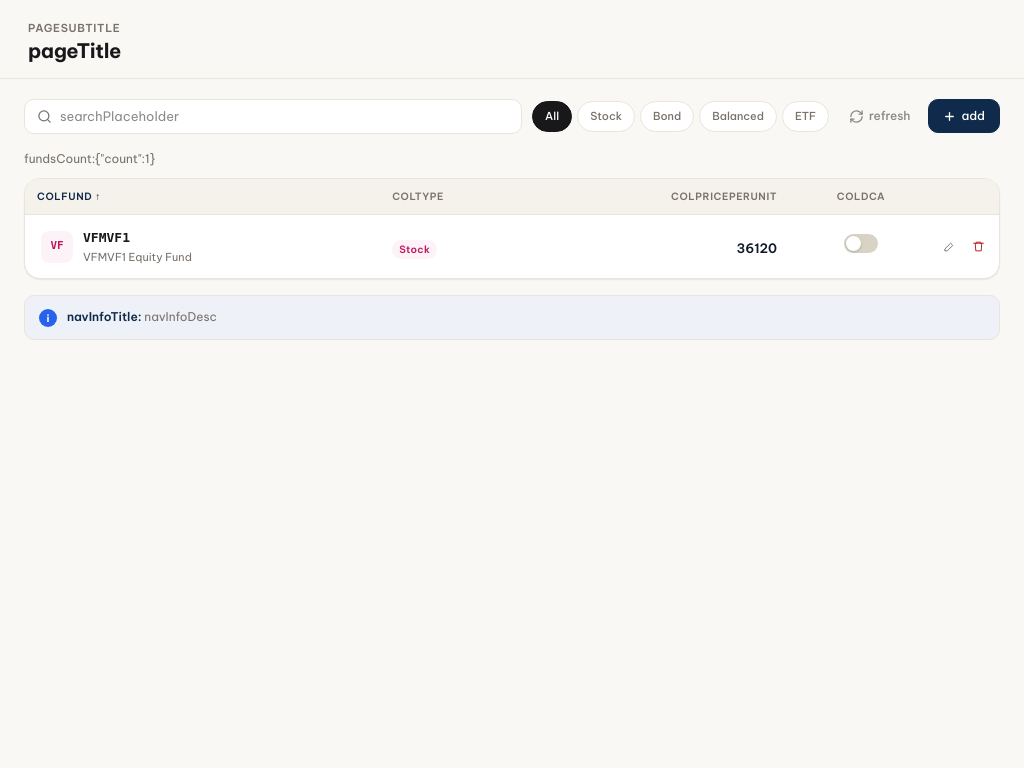
Test: DesktopFundLibraryView — dialog a11y (Esc + focus) › Escape closes the Add/Edit form modal
The image size is (1024, 768).
Click the button "add" at x=964, y=116, box [928, 99, 1000, 133]
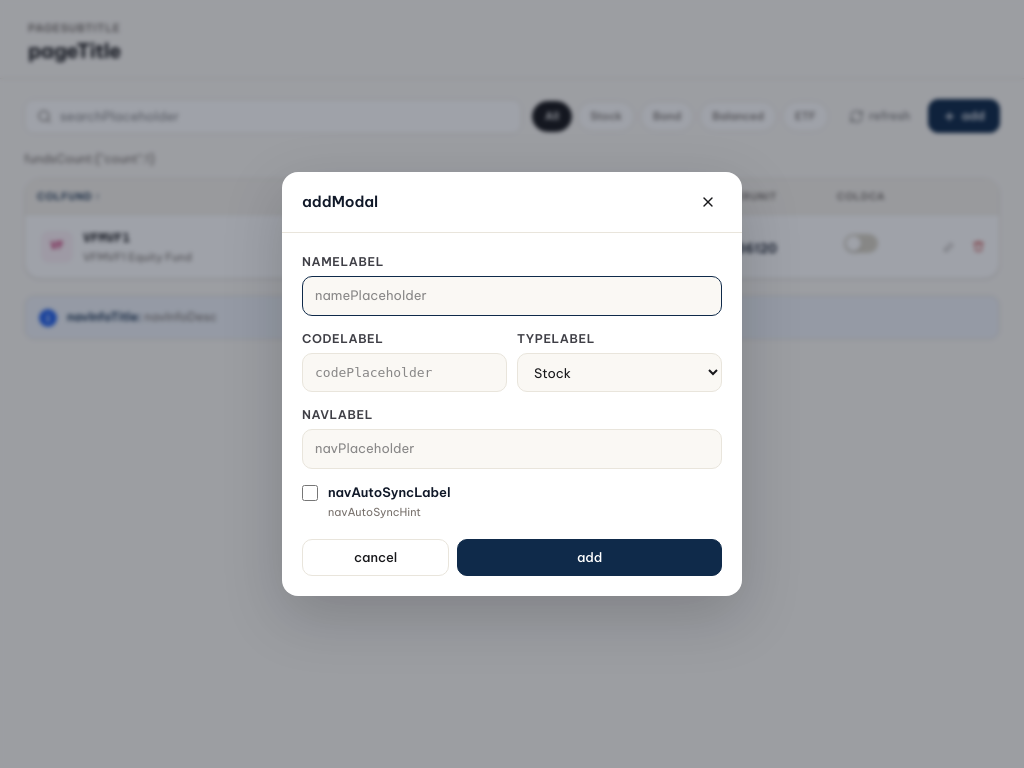
Expected: the dialog with test id "fund-modal" is shown, [282, 172, 742, 596]
Press Escape
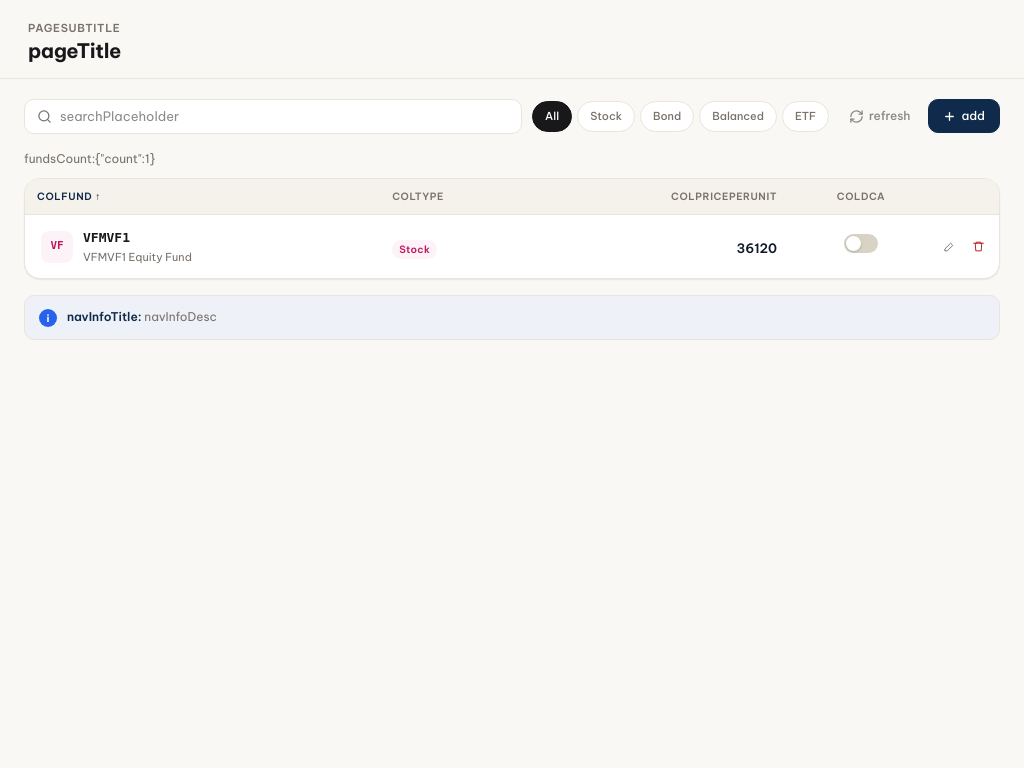
Expected: the dialog with test id "fund-modal" is gone
